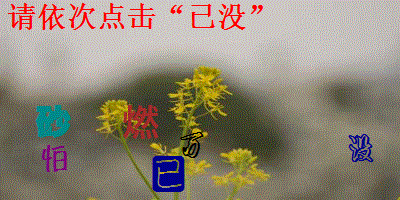result: (187, 2, 249, 32)
text: (119, 103, 160, 141), (151, 154, 187, 194), (34, 103, 71, 141), (40, 142, 70, 175), (348, 132, 377, 165), (179, 131, 204, 160)
